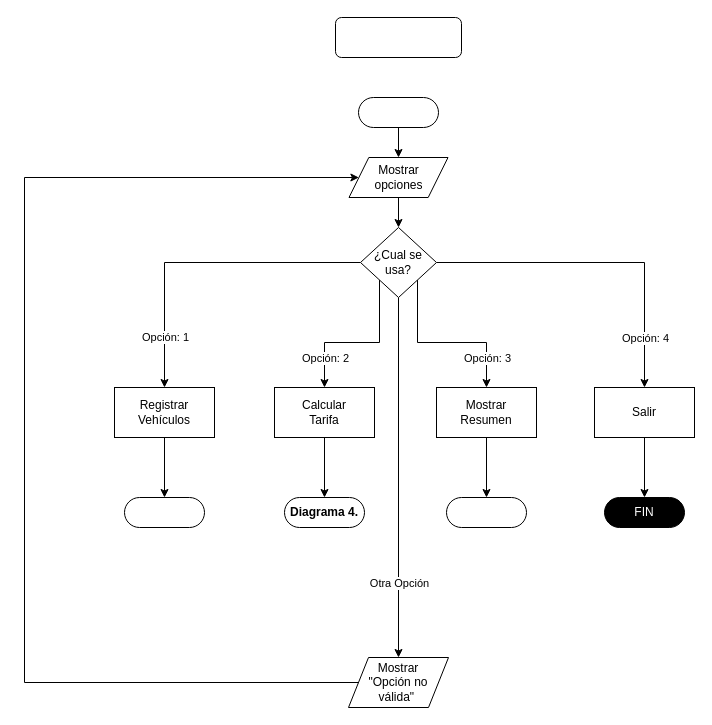
The diagram is 712 pixels wide and 725 high, and some of its shapes have lost their labels. The shapes that lost their labels are listed below. From the top down, each one's box as (x1, y1, x2, y2) in pixels, then its label:
(334, 16, 462, 58): Diagrama 2. Función Menu
(358, 96, 438, 128): Abrir menu
(124, 496, 204, 528): Diagrama 3.
(446, 496, 526, 528): Diagrama 5.
